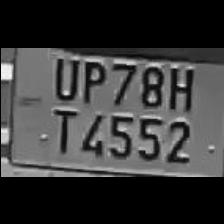2: (162, 115, 192, 165)
4: (76, 107, 106, 157)
5: (132, 111, 162, 158), (104, 109, 132, 157)
7: (104, 57, 136, 107)
8: (136, 60, 164, 108)
H: (163, 62, 197, 110)
P: (77, 55, 105, 103)
T: (48, 104, 76, 154)
U: (48, 52, 78, 100)
